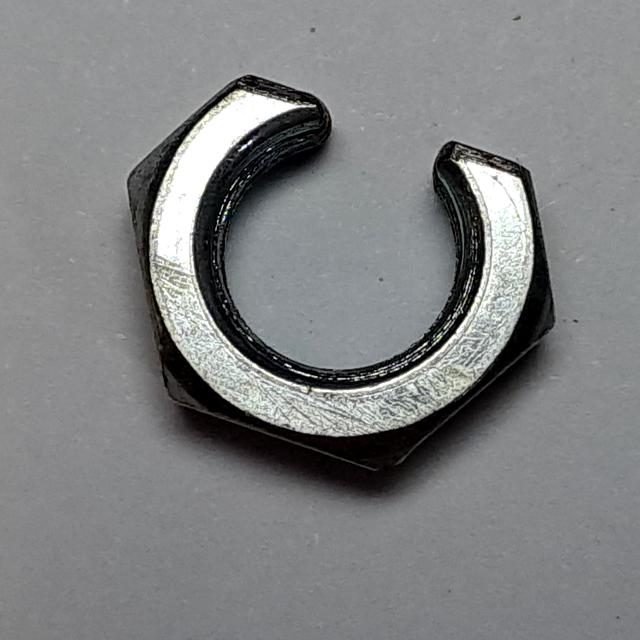Fracture: (111, 64, 575, 488)
